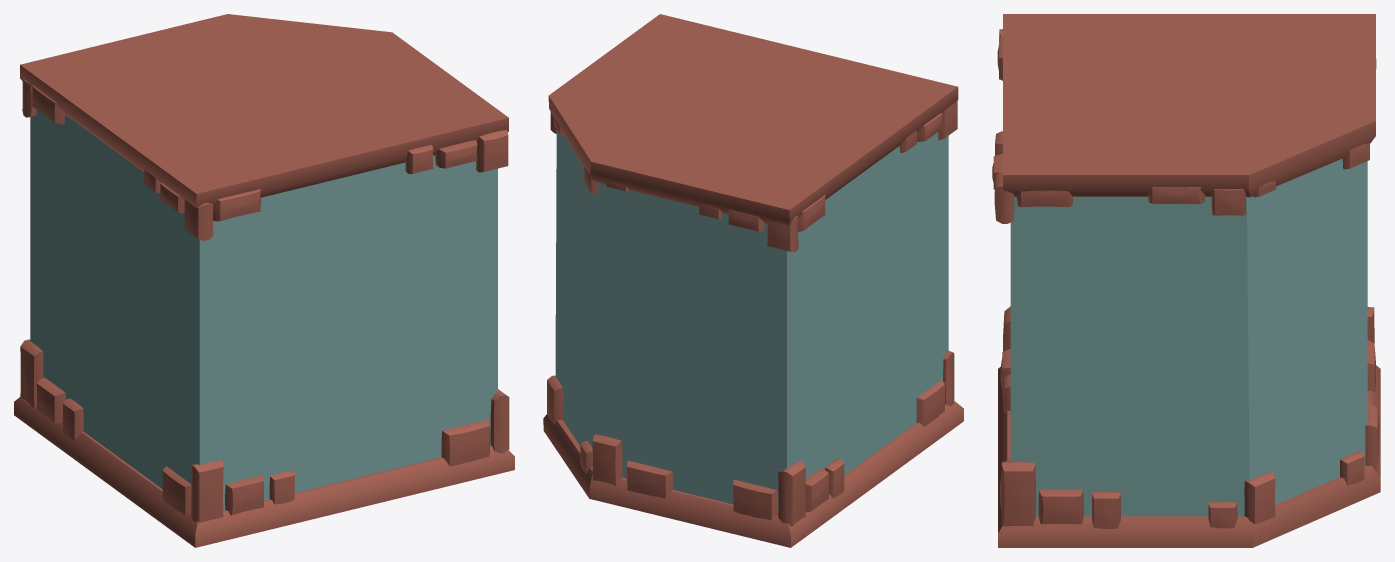
File: house edge.fbx
The picture shows the model from 3 angles, left to right: view 1: azimuth 30°, elevation 25°; view 2: azimuth 150°, elevation 25°; view 3: azimuth 270°, elevation 25°; orthographic projection. The views are drawn at different scales.
Parts seen in each view (by area): view 1: House_Corner_box, ro0f, FLOOR, Brick.005, Brick2.006, Brick.006, Brick1.003, Brick.001, Brick.007, Brick2, Brick2.004, Brick (+6 smaller); view 2: House_Corner_box, ro0f, FLOOR, Brick.006, Brick2.005, Brick.009, Brick2.007, Brick2.004, Brick.002, Brick1.004, Brick.008, Brick.005 (+3 smaller); view 3: House_Corner_box, ro0f, FLOOR, Brick.007, Brick1.005, Brick.008, Brick3.007, Brick2.003, Brick.004, Brick2.001, Brick3.008, Brick.001 (+3 smaller).
Part boxes in pixels (bbox=[...]): House_Corner_box: bbox=[30, 109, 497, 510]; ro0f: bbox=[20, 14, 508, 207]; FLOOR: bbox=[14, 397, 514, 547]; Brick.005: bbox=[190, 460, 223, 522]; Brick2.006: bbox=[441, 419, 490, 466]; Brick.006: bbox=[20, 339, 43, 408]; Brick1.003: bbox=[225, 475, 263, 515]; Brick.001: bbox=[476, 130, 508, 172]; Brick.007: bbox=[490, 389, 509, 453]; Brick2: bbox=[213, 189, 260, 221]; Brick2.004: bbox=[162, 466, 191, 515]; Brick: bbox=[184, 199, 213, 240]; House_Corner_box: bbox=[555, 130, 948, 511]; ro0f: bbox=[548, 14, 958, 225]; FLOOR: bbox=[543, 401, 963, 547]; Brick.006: bbox=[778, 460, 805, 526]; Brick2.005: bbox=[733, 479, 778, 520]; Brick.009: bbox=[592, 434, 622, 485]; Brick2.007: bbox=[626, 461, 673, 498]; Brick2.004: bbox=[916, 380, 944, 426]; Brick.002: bbox=[767, 216, 798, 252]; Brick1.004: bbox=[805, 468, 828, 512]; Brick.008: bbox=[547, 375, 562, 424]; Brick.005: bbox=[943, 351, 954, 406]; House_Corner_box: bbox=[1010, 158, 1367, 516]; ro0f: bbox=[1003, 14, 1375, 197]; FLOOR: bbox=[998, 365, 1380, 547]; Brick.007: bbox=[1001, 461, 1035, 526]; Brick1.005: bbox=[1038, 489, 1083, 524]; Brick.008: bbox=[1244, 472, 1275, 524]; Brick3.007: bbox=[1092, 491, 1120, 528]; Brick2.003: bbox=[1148, 187, 1205, 204]; Brick.004: bbox=[1211, 189, 1245, 215]; Brick2.001: bbox=[1016, 190, 1072, 207]; Brick3.008: bbox=[1208, 501, 1237, 528]; Brick.001: bbox=[994, 171, 1014, 223].
Size of the model in its own units: 145 by 151 by 144.
